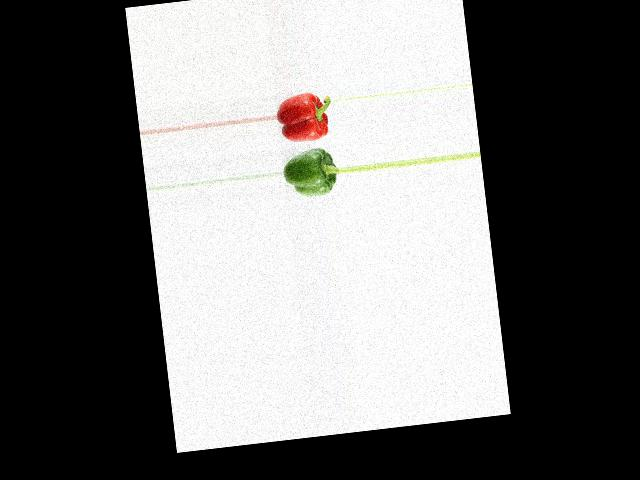bell_pepper: (283, 144, 340, 200)
